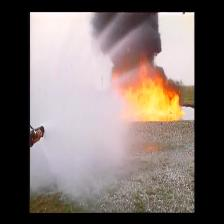fire: (123, 80, 178, 121)
smoke: (106, 19, 156, 69)
